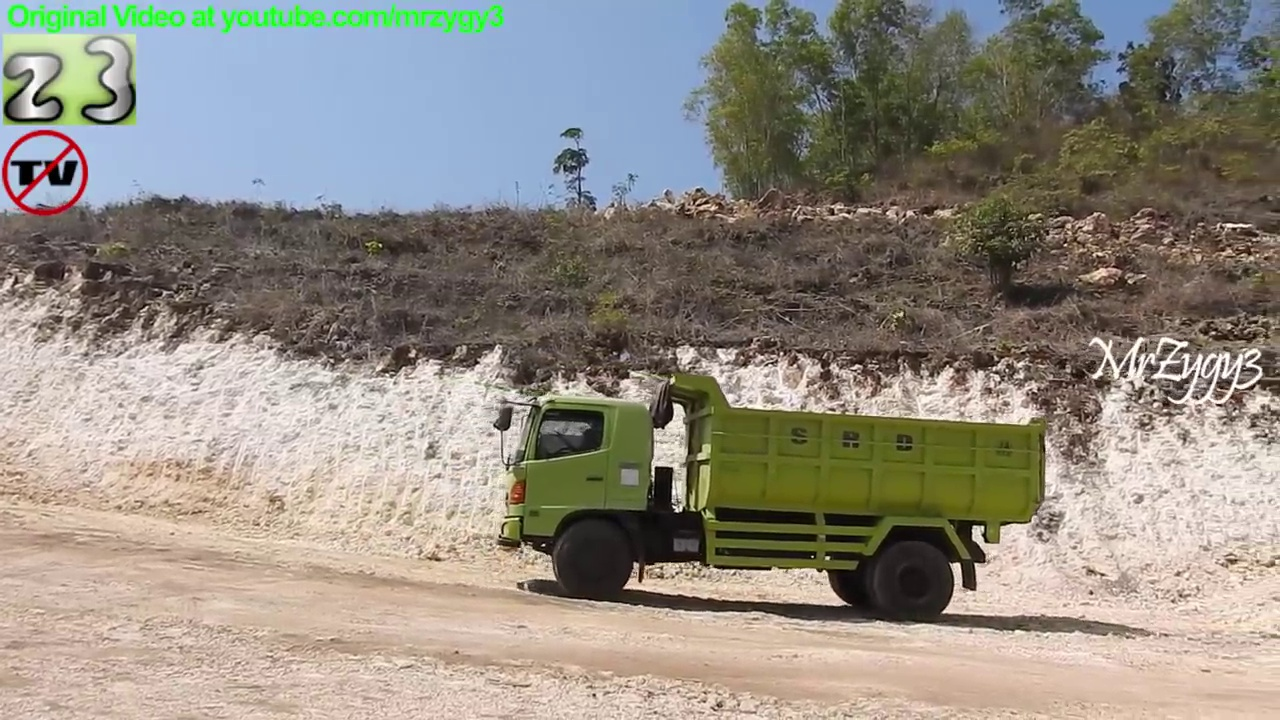truck: (488, 367, 1057, 628)
